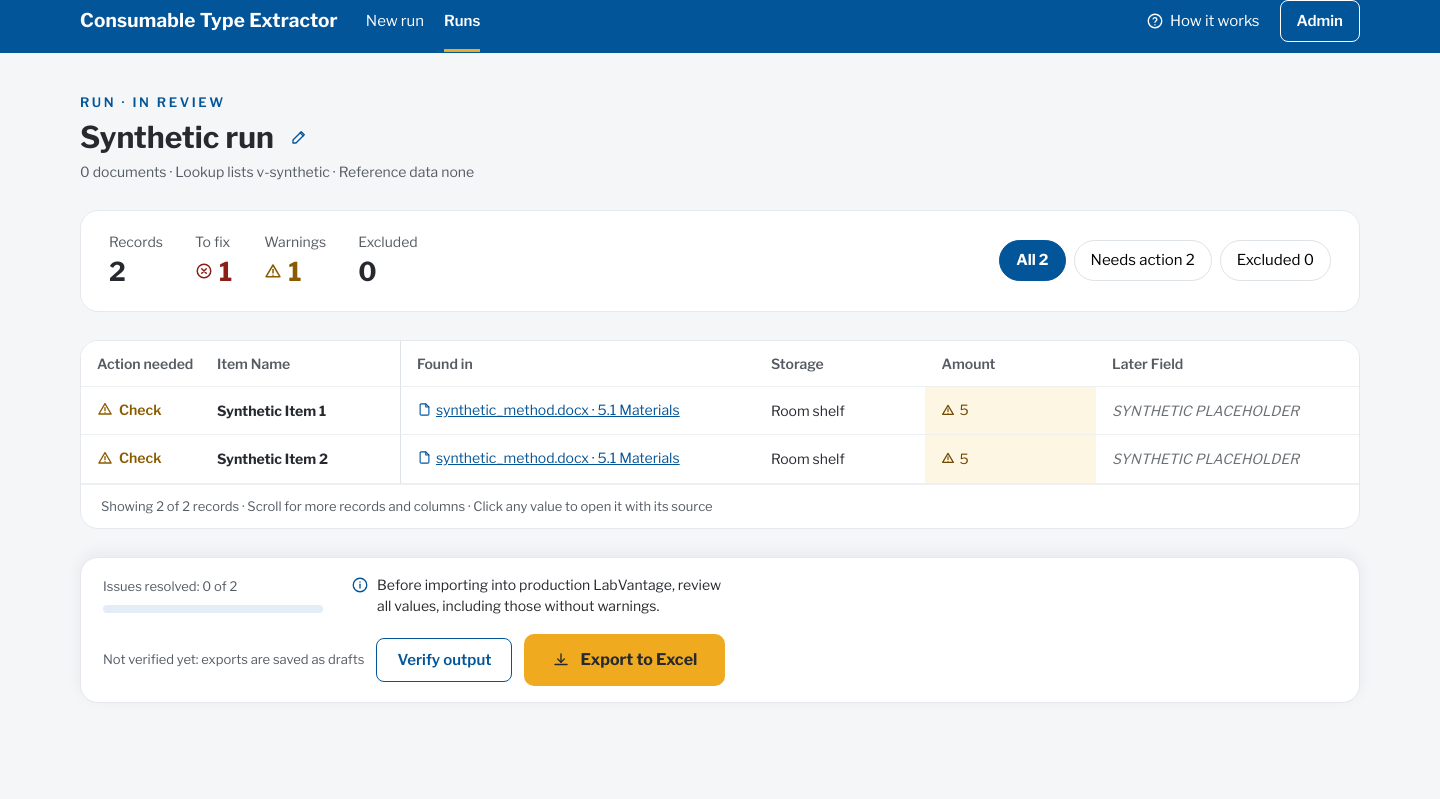
Test: Bulk actions › shows the API's message when a bulk accept is refused
Click the button named "Amount: 5, check": (1011,410) [942,399,1080,422]
(page scrolled)
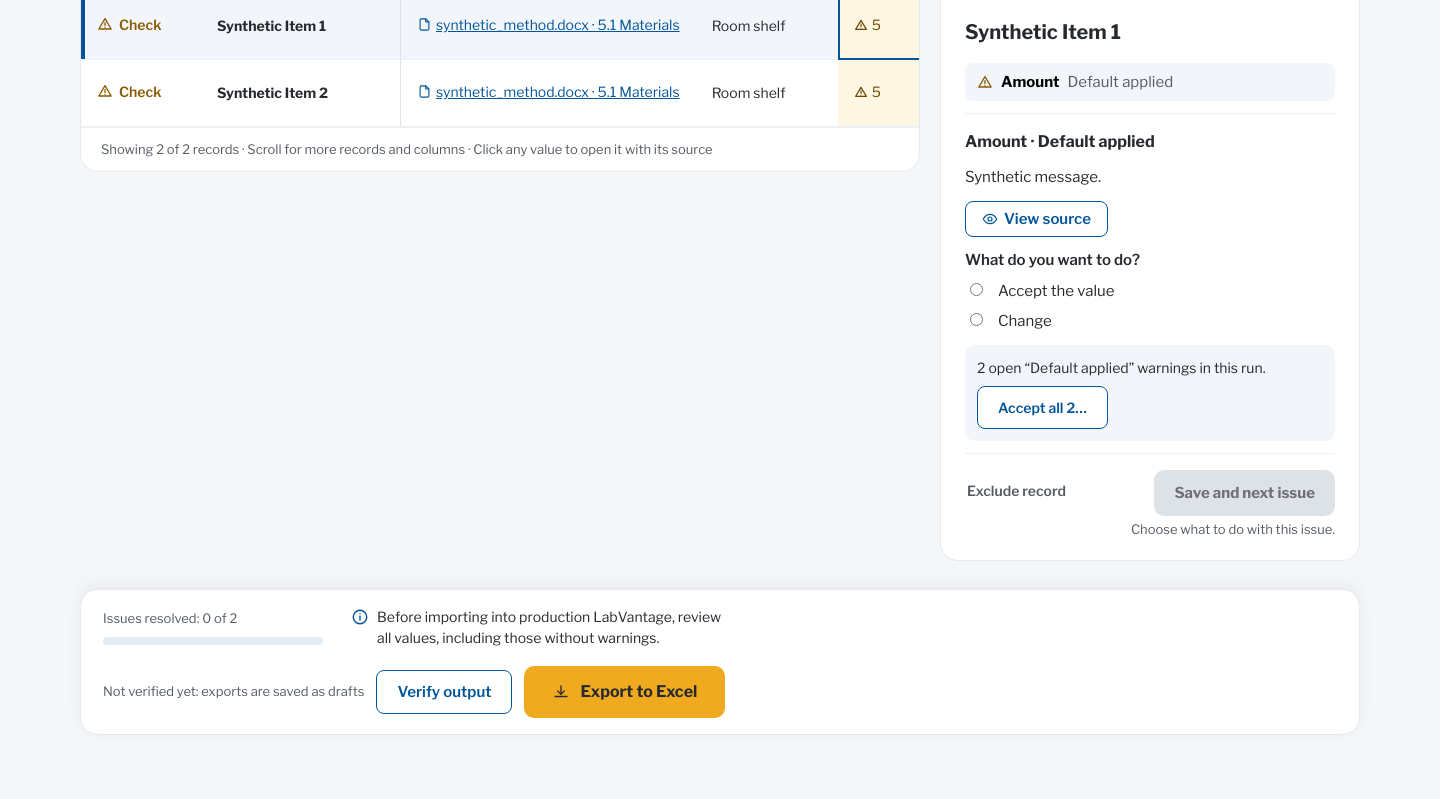
Click the button "Accept all 2…": (1042,407) [977,386,1108,428]
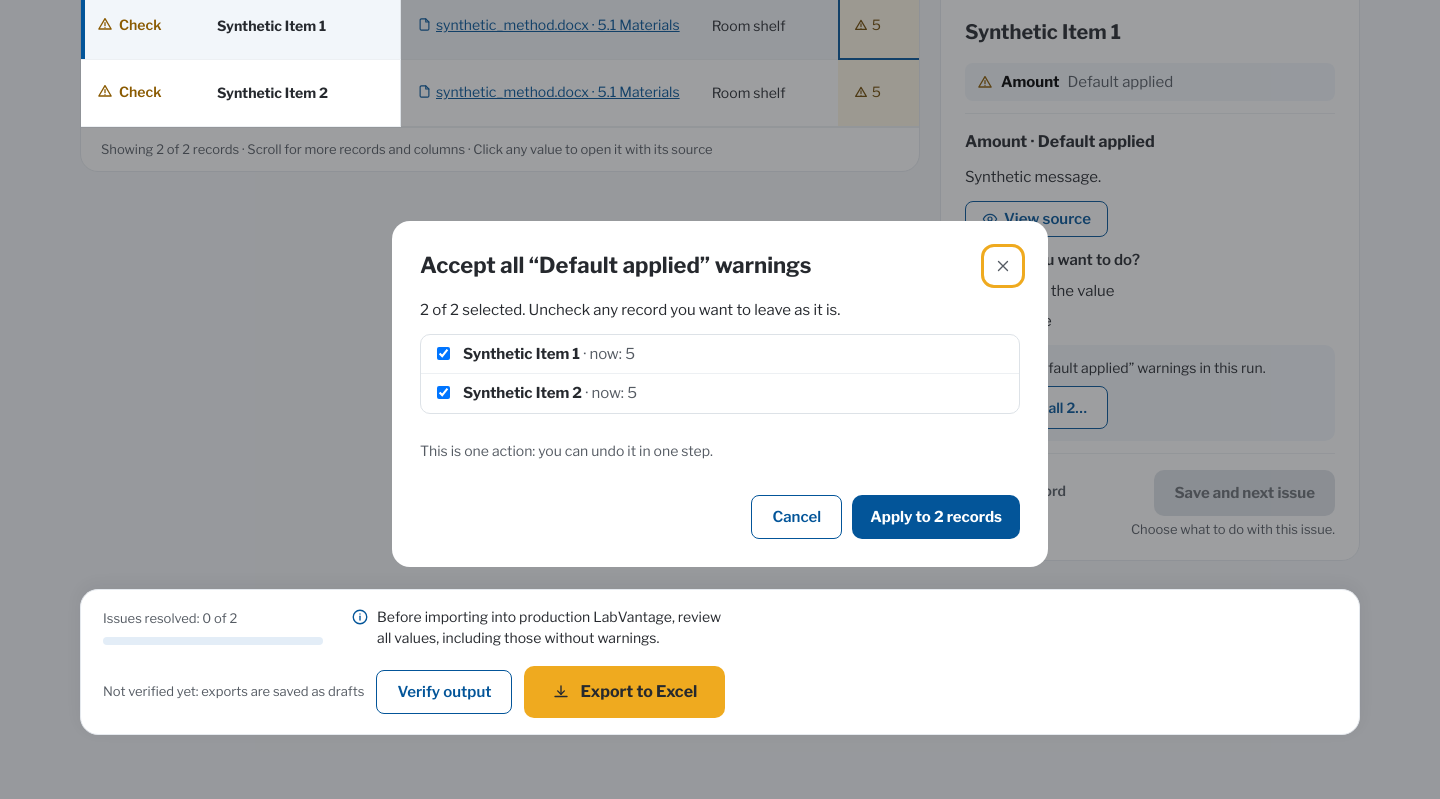
Click the button "Apply to 2 records": (936,517) [852,494,1020,539]
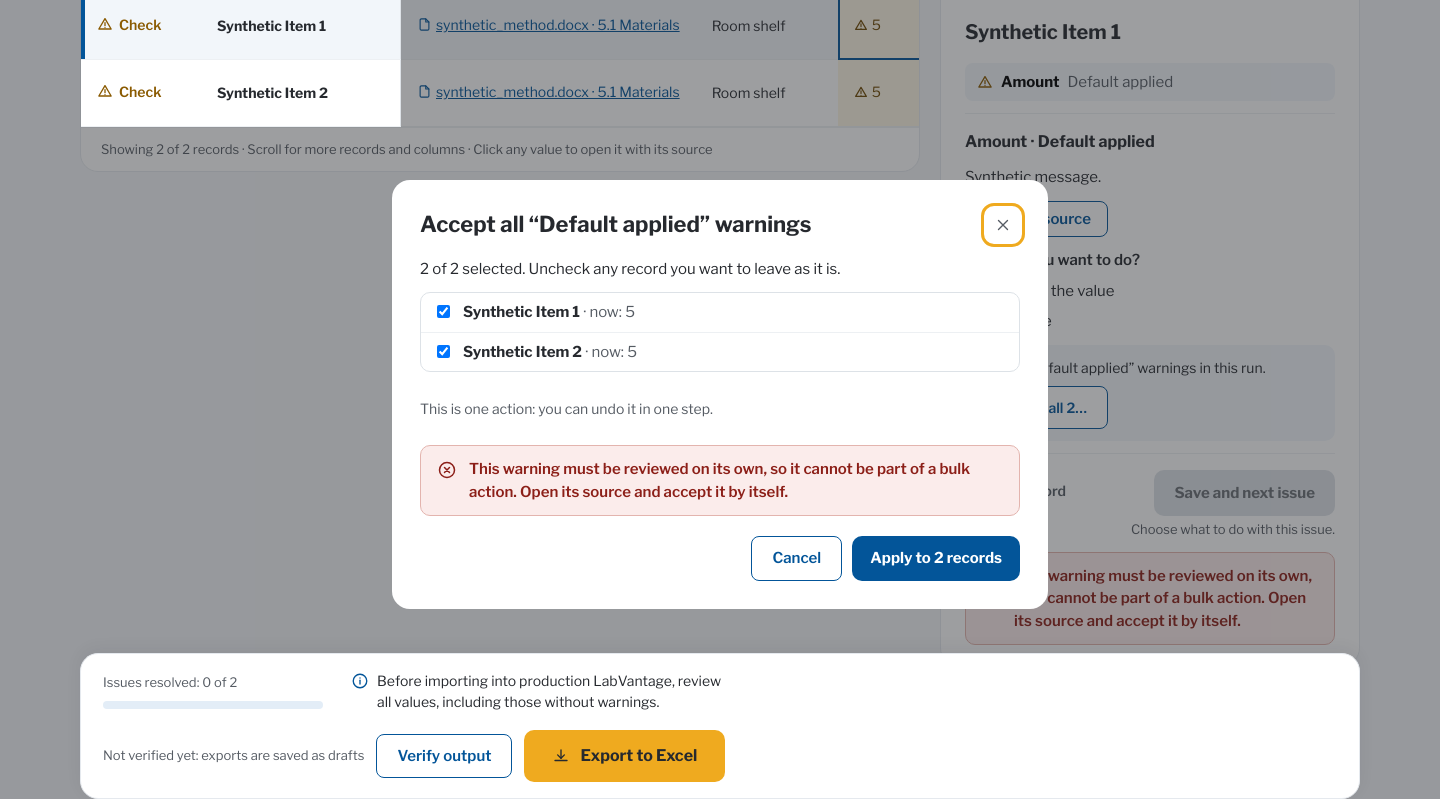
Check: the message below "2 of 2 selected." shows "This warning must be reviewed on its own, so it cannot be part of a bulk action. Open its source and accept it by itself.", box [469,460,970,500]
